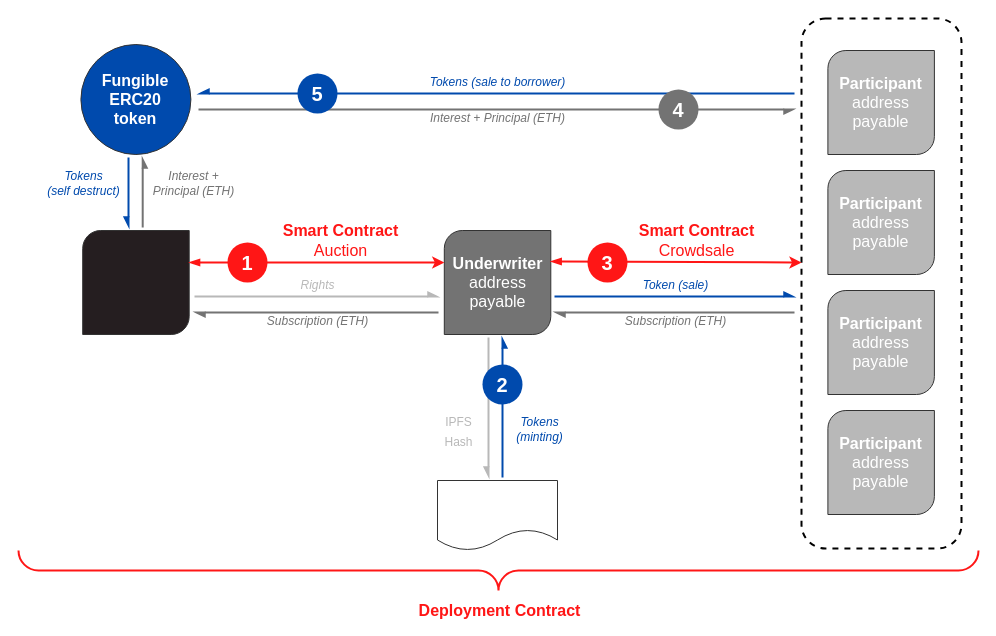
The diagram is 996 pixels wide and 636 high, and some of its shapes have lost their labels. The shapes that lost their labels are listed below. From the top down, each one's centre as x and y in pixels, then its label:
At (x=135, y=282): "Borrower address payable".
At (x=497, y=515): "Loan Agreement".
